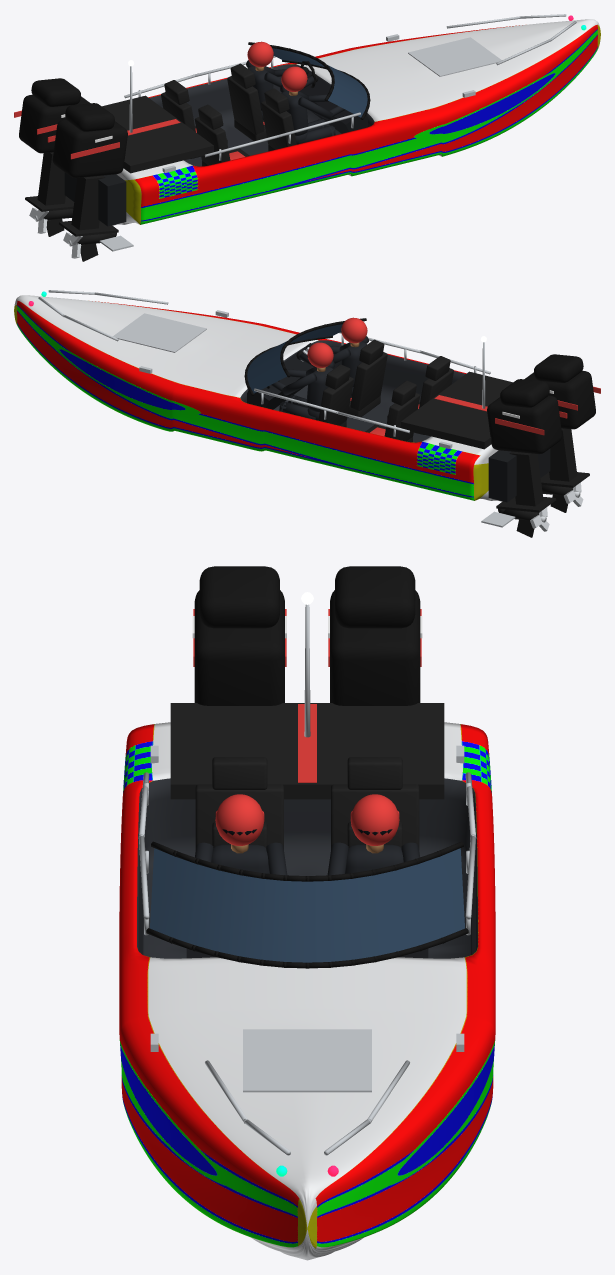
File: RaceBoat.glb
The picture shows the model from 3 angles, top to bottom: view 1: azimuth 30°, elevation 25°; view 2: azimuth 150°, elevation 25°; view 3: azimuth 270°, elevation 25°; orthographic projection. The views are drawn at different scales.
Parts seen in each view (by area): view 1: RaceBoat; view 2: RaceBoat; view 3: RaceBoat.
Boxes of the visible parts, bbox=[...] form: RaceBoat: bbox=[14, 14, 600, 261]; RaceBoat: bbox=[14, 290, 600, 537]; RaceBoat: bbox=[119, 566, 495, 1260].
Size of the model in its own units: 8.01 by 2.37 by 2.34.
27 materials, 1 textured.
